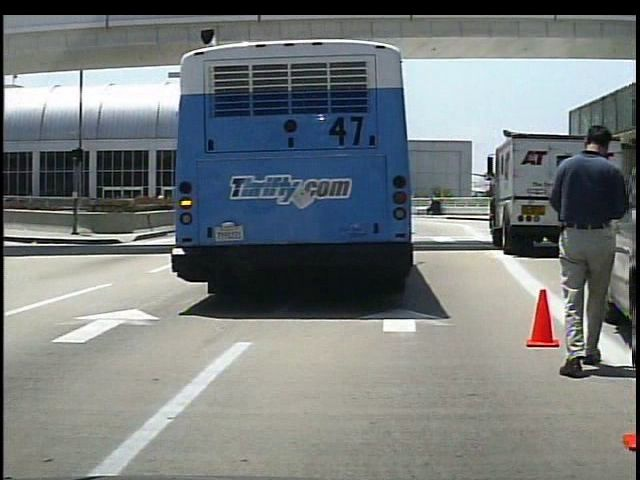person: (550, 117, 630, 374)
